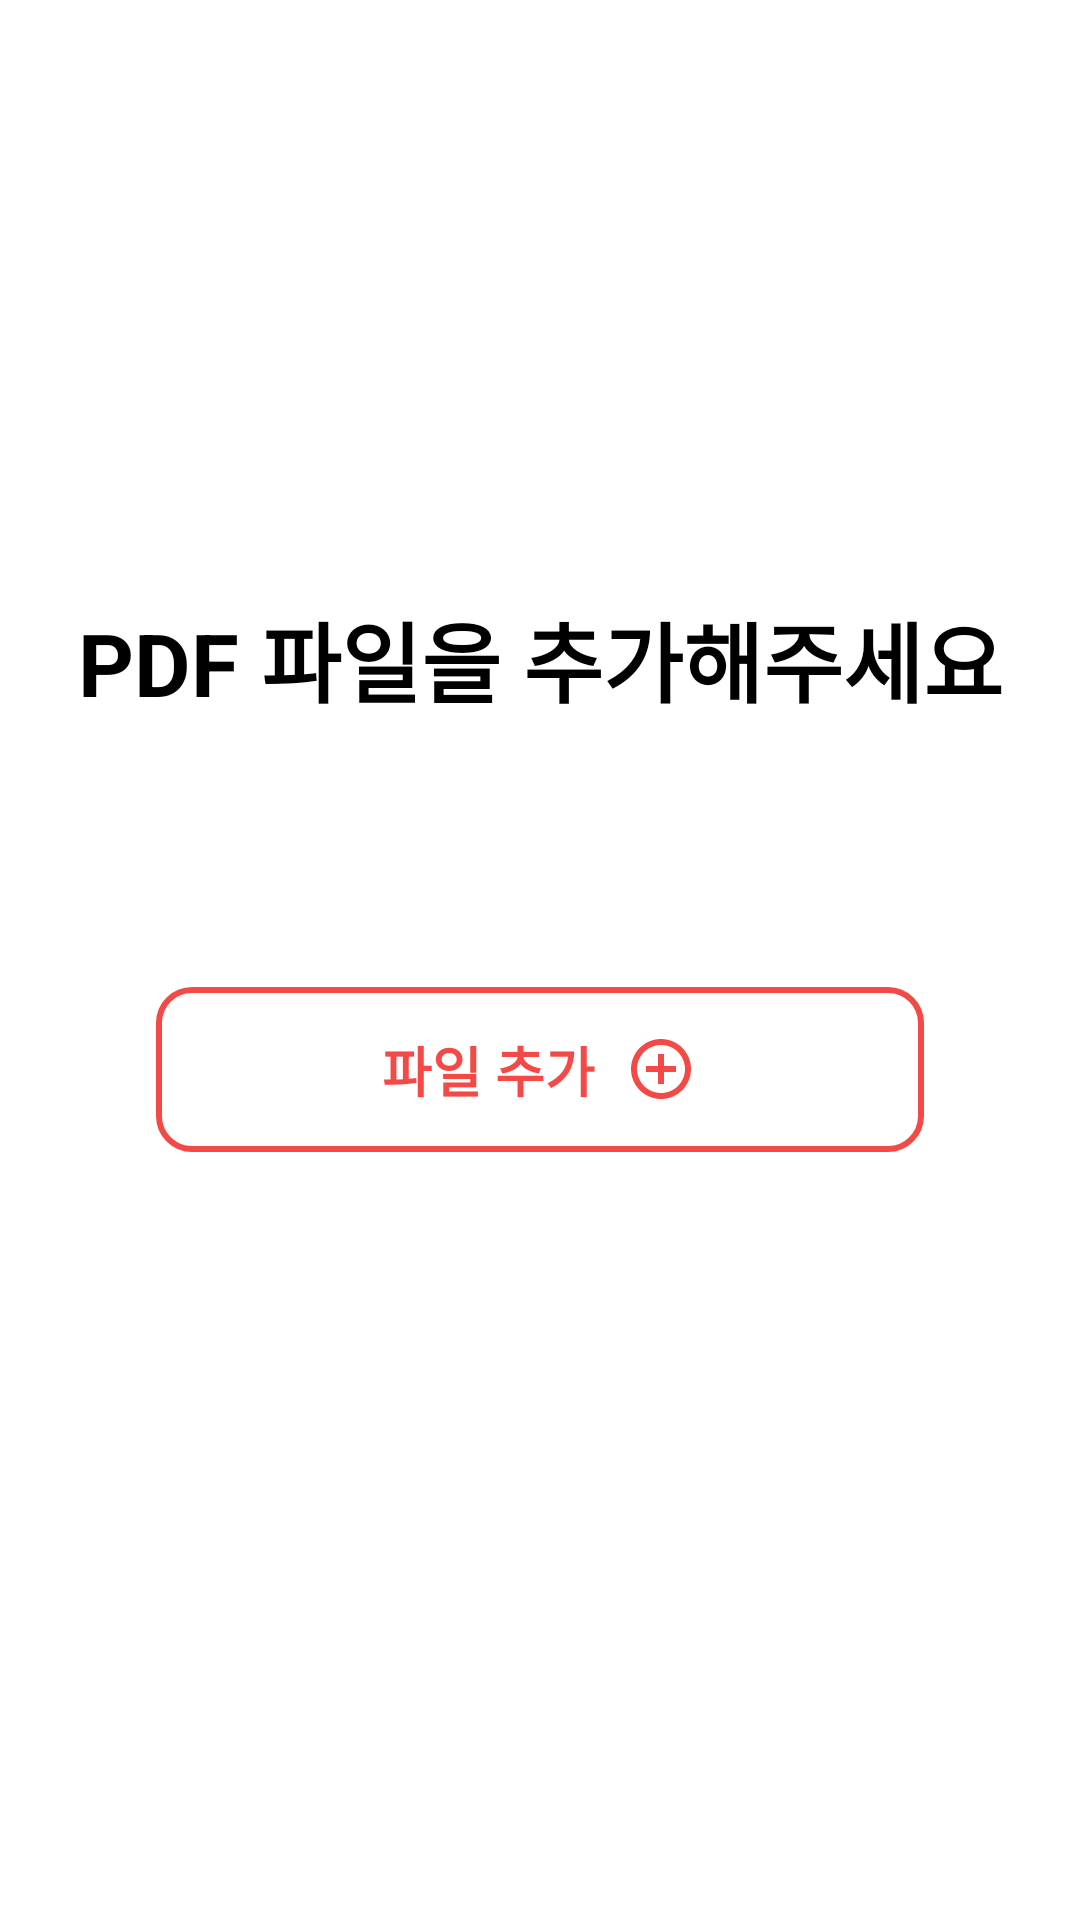

Screen size 1080px×1920px. Icon name, then its center in pixels as [x,y]:
add circle: [661,1069]
